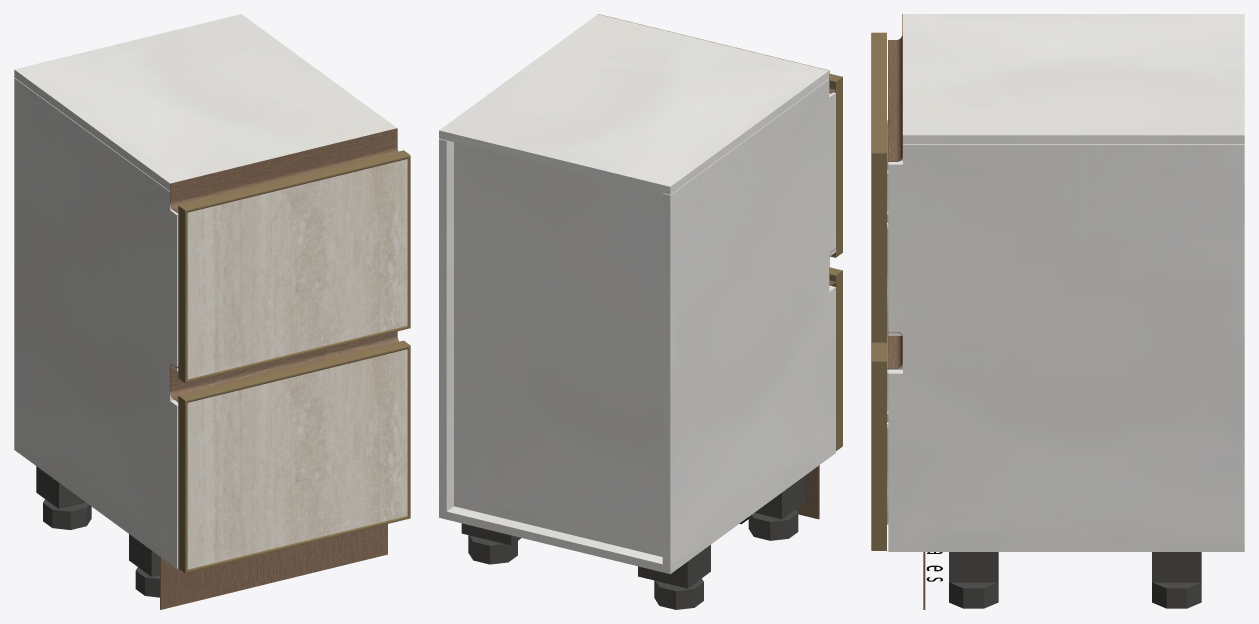
Rendered from BC-DW-CJ-ST-XXX-2HB-XXX-450-720-560-15.glb.
3 views of the same model, side by side, from view 1: azimuth 30°, elevation 25°; view 2: azimuth 150°, elevation 25°; view 3: azimuth 270°, elevation 25° (orthographic). The views are drawn at different scales.
Visible parts, largest first — view 1: TP_node, Object_node_67, Object_node_69, TP_node_1, Object_node_71, ExtrSplGeo, ExtrSplGeo_node, Extrusion, Extrusion_node_2, Extrusion_node_1, Extrusion_node_5, TP (+8 smaller); view 2: TP_node_6, TP_node, TP_node_1, TP_node_0, TP, Plate, Extrusion_node_5, Extrusion_node_1, Foot_node_0, Foot, Foot_node, Plate_node_0 (+2 smaller); view 3: TP_node_0, TP_node_1, TP, Extrusion_node, Extrusion_node_3, Extrusion_node_2, ExtrSplGeo, Plate_node, Plate_node_1, Foot_node_1, Foot_node, ExtrSplGeo_node.
Boxes of the visible parts, bbox=[...] form: TP_node: bbox=[14, 78, 178, 560]; Object_node_67: bbox=[187, 349, 407, 569]; Object_node_69: bbox=[187, 159, 407, 378]; TP_node_1: bbox=[14, 14, 396, 190]; Object_node_71: bbox=[160, 524, 387, 609]; ExtrSplGeo: bbox=[170, 128, 398, 213]; ExtrSplGeo_node: bbox=[170, 331, 398, 402]; Extrusion: bbox=[178, 340, 410, 402]; Extrusion_node_2: bbox=[178, 150, 410, 212]; Extrusion_node_1: bbox=[178, 396, 187, 573]; Extrusion_node_5: bbox=[178, 206, 187, 382]; TP: bbox=[14, 442, 178, 568]; TP_node_6: bbox=[454, 142, 662, 556]; TP_node: bbox=[662, 79, 835, 565]; TP_node_1: bbox=[439, 14, 829, 194]; TP_node_0: bbox=[439, 138, 453, 511]; TP: bbox=[439, 445, 835, 574]; Plate: bbox=[638, 545, 710, 588]; Extrusion_node_5: bbox=[829, 77, 842, 257]; Extrusion_node_1: bbox=[830, 270, 842, 450]; Foot_node_0: bbox=[748, 509, 798, 540]; Foot: bbox=[654, 578, 703, 609]; Foot_node: bbox=[468, 535, 517, 564]; Plate_node_0: bbox=[754, 476, 805, 519]; TP_node_0: bbox=[888, 144, 1244, 543]; TP_node_1: bbox=[903, 14, 1244, 143]; TP: bbox=[888, 543, 1244, 551]; Extrusion_node: bbox=[871, 361, 886, 550]; Extrusion_node_3: bbox=[871, 153, 886, 342]; Extrusion_node_2: bbox=[871, 32, 886, 153]; ExtrSplGeo: bbox=[888, 14, 902, 162]; Plate_node: bbox=[1152, 552, 1201, 582]; Plate_node_1: bbox=[949, 552, 998, 582]; Foot_node_1: bbox=[949, 582, 998, 608]; Foot_node: bbox=[1152, 582, 1201, 608]; ExtrSplGeo_node: bbox=[888, 223, 902, 369].
Size of what is drawn, in the model's own units: 0.45 by 0.82 by 0.5842.
7 materials, 3 textured.
